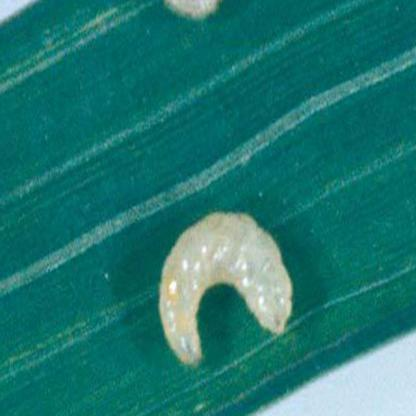whorl-maggot: (148, 200, 303, 374)
